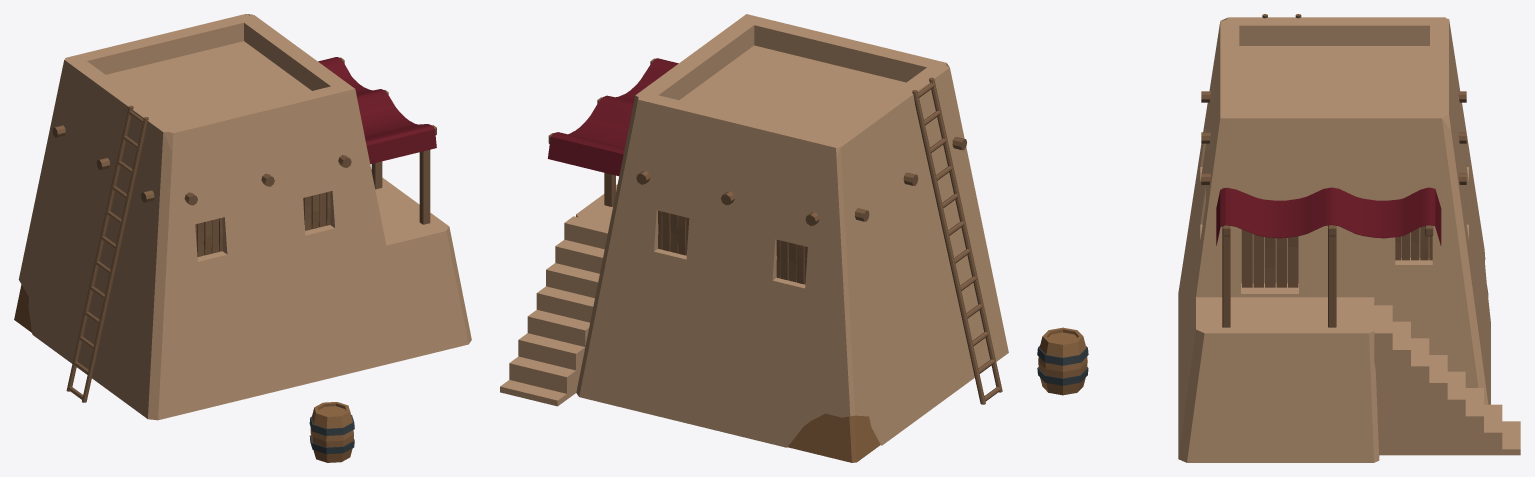
File: house4.fbx
3 renders of one model, left to right at view 1: azimuth 30°, elevation 25°; view 2: azimuth 150°, elevation 25°; view 3: azimuth 270°, elevation 25°, orthographic. The views are drawn at different scales.
Parts seen in each view (by area): view 1: House_4_Base, House_4_Towel_Big_Roof, House_4_Stairs_to_Roof, Barrel, House_4_Windows, House_4_Beams, House_4_Beams_Area; view 2: House_4_Base, House_4_Stair_Rock, House_4_Towel_Big_Roof, House_4_Stairs_to_Roof, House_4_Windows, House_4_Beams_Area; view 3: House_4_Base, House_4_Stair_Rock, House_4_Towel_Big_Roof, Barrel, House_4_Door, House_4_Beams, House_4_Windows, House_4_Beams_Area.
Boxes of the visible parts, bbox=[...] form: House_4_Base: bbox=[14, 14, 471, 420]; House_4_Towel_Big_Roof: bbox=[318, 57, 436, 163]; House_4_Stairs_to_Roof: bbox=[66, 105, 148, 402]; Barrel: bbox=[309, 402, 354, 462]; House_4_Windows: bbox=[195, 191, 330, 256]; House_4_Beams: bbox=[340, 57, 436, 224]; House_4_Beams_Area: bbox=[52, 125, 351, 205]; House_4_Base: bbox=[576, 14, 1008, 462]; House_4_Stair_Rock: bbox=[500, 216, 609, 406]; House_4_Towel_Big_Roof: bbox=[547, 58, 678, 176]; House_4_Stairs_to_Roof: bbox=[912, 77, 1002, 404]; House_4_Windows: bbox=[658, 210, 807, 284]; House_4_Beams_Area: bbox=[636, 137, 966, 225]; House_4_Base: bbox=[1178, 17, 1490, 462]; House_4_Stair_Rock: bbox=[1374, 305, 1520, 455]; House_4_Towel_Big_Roof: bbox=[1216, 187, 1441, 245]; Barrel: bbox=[1037, 327, 1088, 395]; House_4_Door: bbox=[1242, 229, 1298, 287]; House_4_Beams: bbox=[1222, 187, 1433, 327]; House_4_Windows: bbox=[1395, 226, 1432, 260]; House_4_Beams_Area: bbox=[1201, 91, 1466, 184].
Size of what is drawn, in the model's own units: 980 by 775 by 1056.
